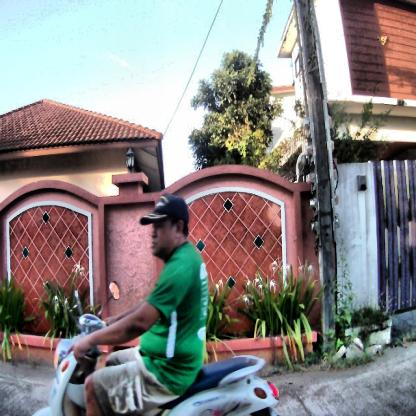not_wear: (150, 195, 192, 259)
